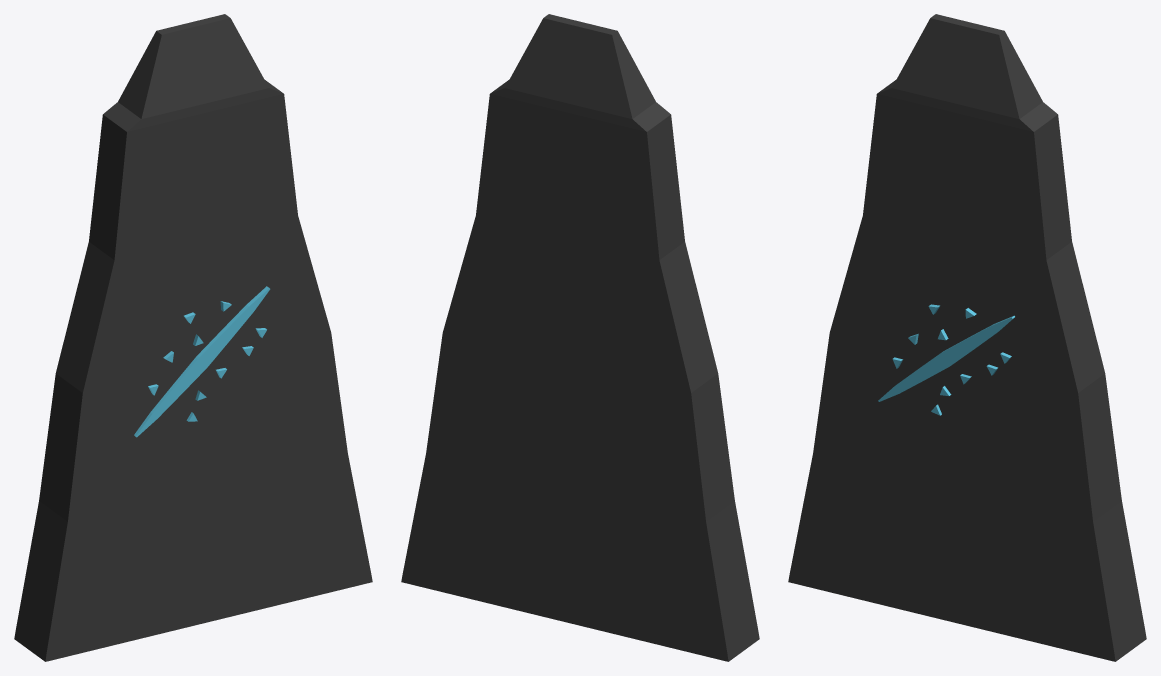
File: runestone_iceray.fbx
3 views of the same model, side by side, from view 1: azimuth 30°, elevation 25°; view 2: azimuth 150°, elevation 25°; view 3: azimuth 330°, elevation 25° (orthographic).
Visible parts, largest first — view 1: runestone_iceray; view 2: runestone_iceray; view 3: runestone_iceray.
Part boxes in pixels (x1,y1,x2,y2): runestone_iceray: (14,14,372,661); runestone_iceray: (401,14,759,661); runestone_iceray: (788,14,1146,661).
Bounding box in the file's own units: 156 × 266 × 25.91.
